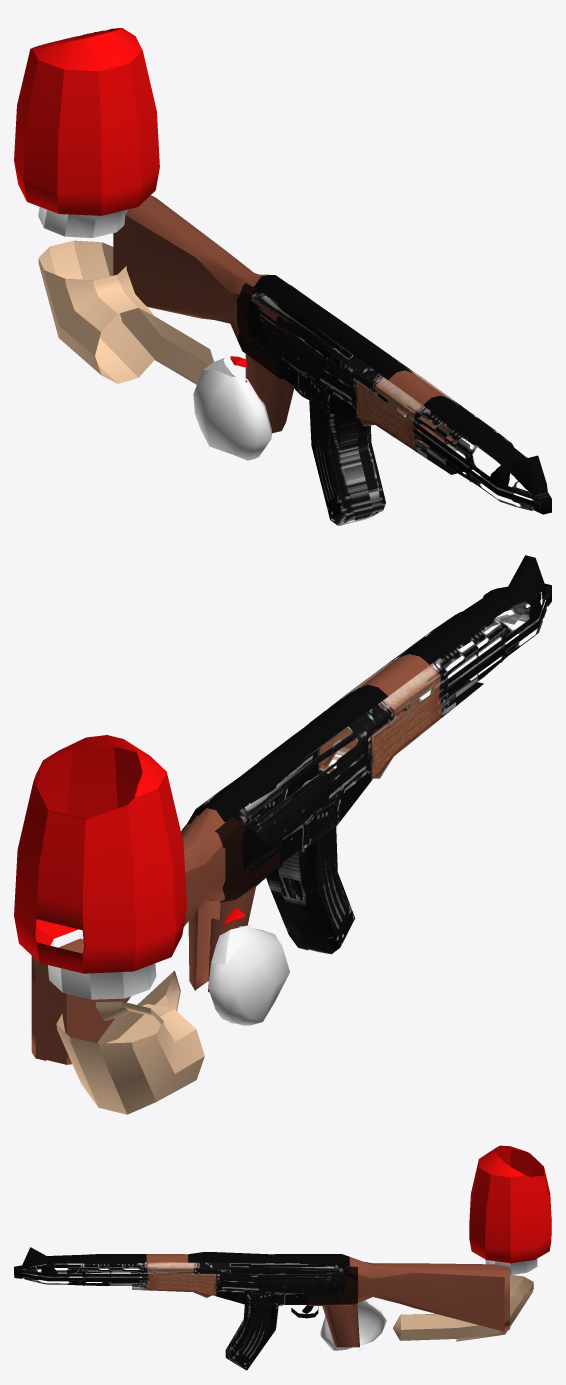
File: R_hands_rifle_r.obj
The picture shows the model from 3 angles, top to bottom: view 1: azimuth 30°, elevation 25°; view 2: azimuth 150°, elevation 25°; view 3: azimuth 270°, elevation 25°; orthographic projection. The views are drawn at different scales.
Visible parts, largest first — view 1: R pasted__pasted__pCube3, pCylinder4 group5 R, group5 R pasted__pCube3; view 2: R pasted__pasted__pCube3, pCylinder4 group5 R, group5 R pasted__pCube3; view 3: R pasted__pasted__pCube3, pCylinder4 group5 R, group5 R pasted__pCube3.
Boxes of the visible parts, x1,y1,x2,y2 form: R pasted__pasted__pCube3: (113, 195, 551, 525); pCylinder4 group5 R: (14, 28, 214, 384); group5 R pasted__pCube3: (193, 356, 271, 460); R pasted__pasted__pCube3: (31, 555, 551, 1064); pCylinder4 group5 R: (14, 735, 204, 1114); group5 R pasted__pCube3: (208, 907, 289, 1025); R pasted__pasted__pCube3: (14, 1247, 509, 1370); pCylinder4 group5 R: (393, 1145, 551, 1341); group5 R pasted__pCube3: (320, 1300, 386, 1350).
Bounding box in the file's own units: 0.2254 × 0.5842 × 1.39.
1 material, 1 textured.
